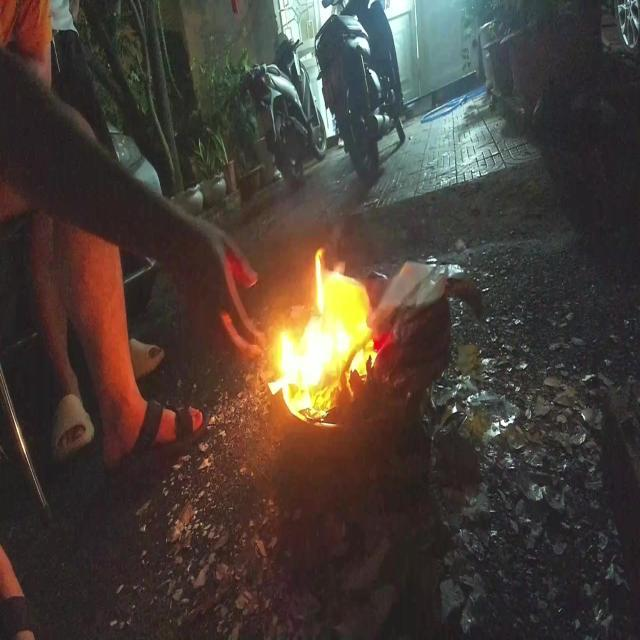Fire: (258, 234, 395, 426)
